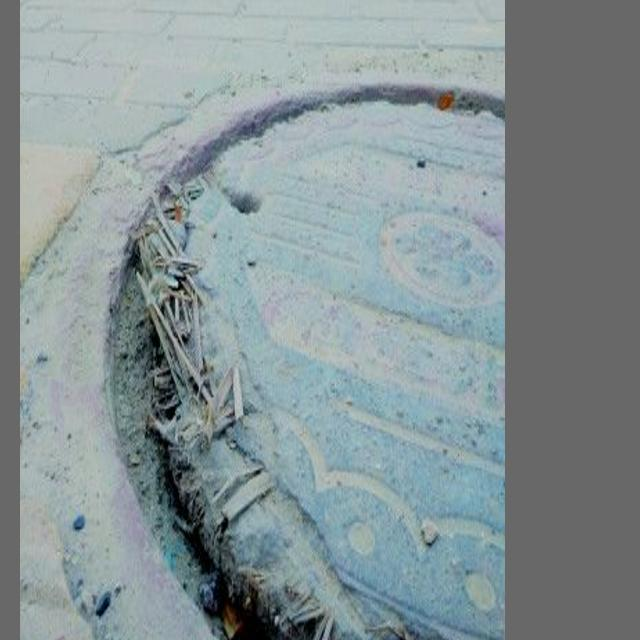circle: (47, 49, 496, 640)
